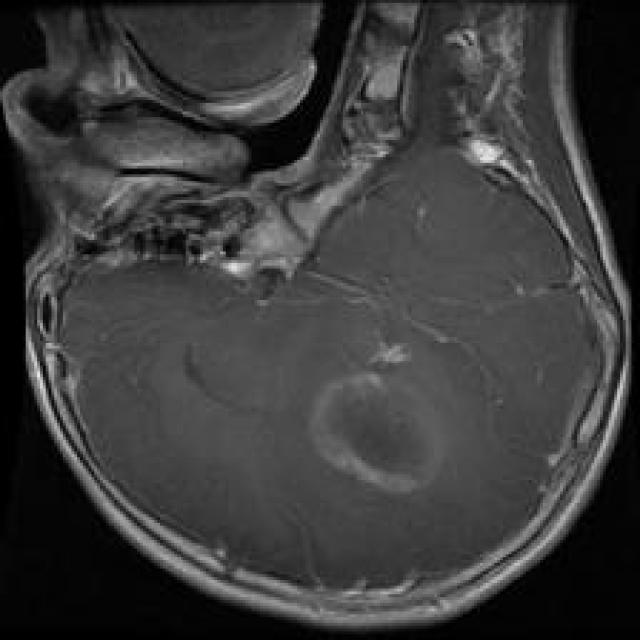glioma_tumor: (299, 349, 461, 530)
